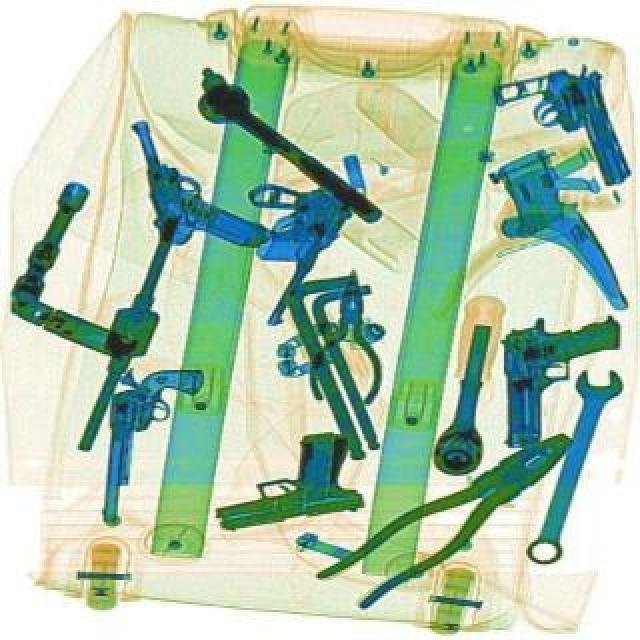gun: (118, 96, 270, 268), (224, 160, 364, 332), (490, 54, 636, 210), (96, 362, 202, 530), (200, 426, 362, 530), (500, 314, 620, 446)
scissors: (514, 362, 624, 572)
wrench: (312, 414, 588, 622), (306, 268, 386, 406)
